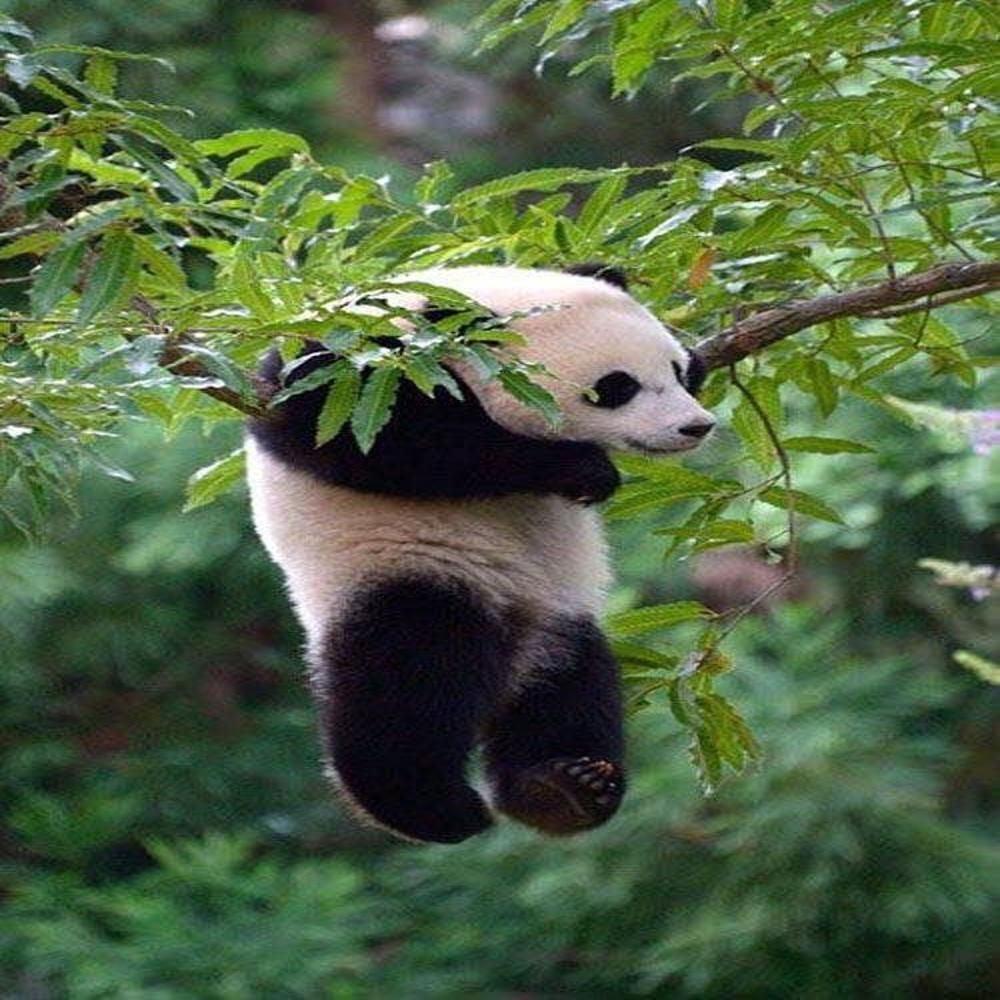panda: (232, 250, 718, 851)
